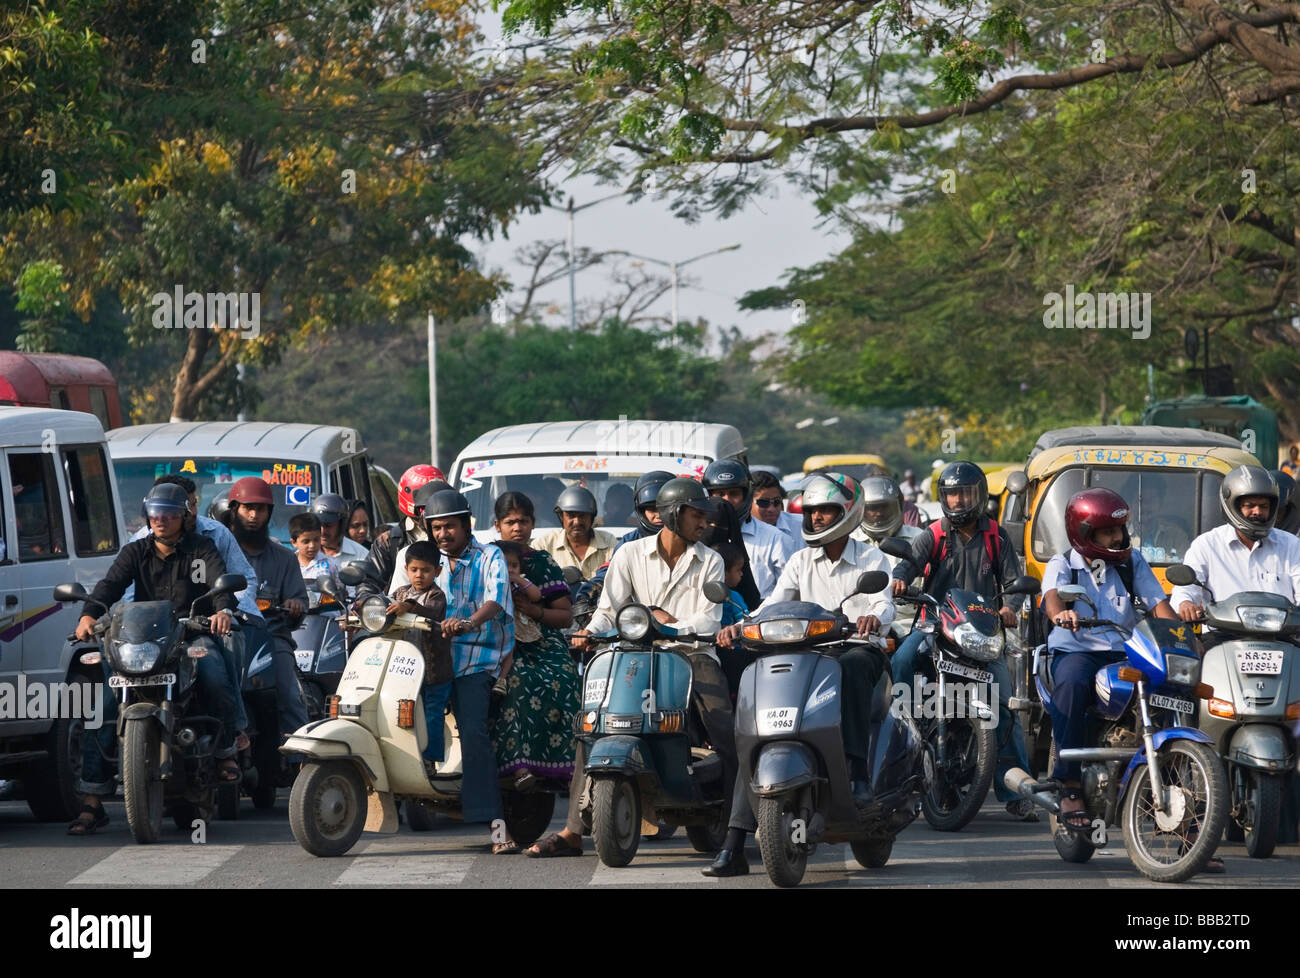auto: (1020, 419, 1268, 584)
bike: (1071, 608, 1206, 872), (102, 602, 211, 827)
car: (454, 408, 757, 491), (1, 420, 95, 615), (115, 435, 364, 484)
person: (428, 493, 501, 768), (797, 469, 900, 597), (629, 483, 725, 616), (118, 484, 197, 599), (501, 498, 531, 762), (1214, 466, 1295, 563), (1068, 489, 1134, 588), (925, 466, 988, 569), (235, 481, 275, 580), (554, 496, 601, 555), (754, 464, 791, 537), (289, 521, 316, 562), (319, 496, 339, 552)
scooter: (296, 601, 435, 848), (908, 589, 1015, 818), (601, 615, 688, 847)
scooty: (738, 599, 888, 870), (1205, 593, 1299, 839)
